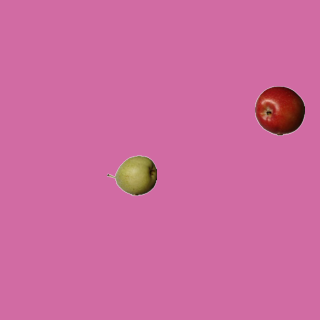Apple Braeburn: (254, 85, 304, 135)
Pear: (106, 150, 156, 200)
